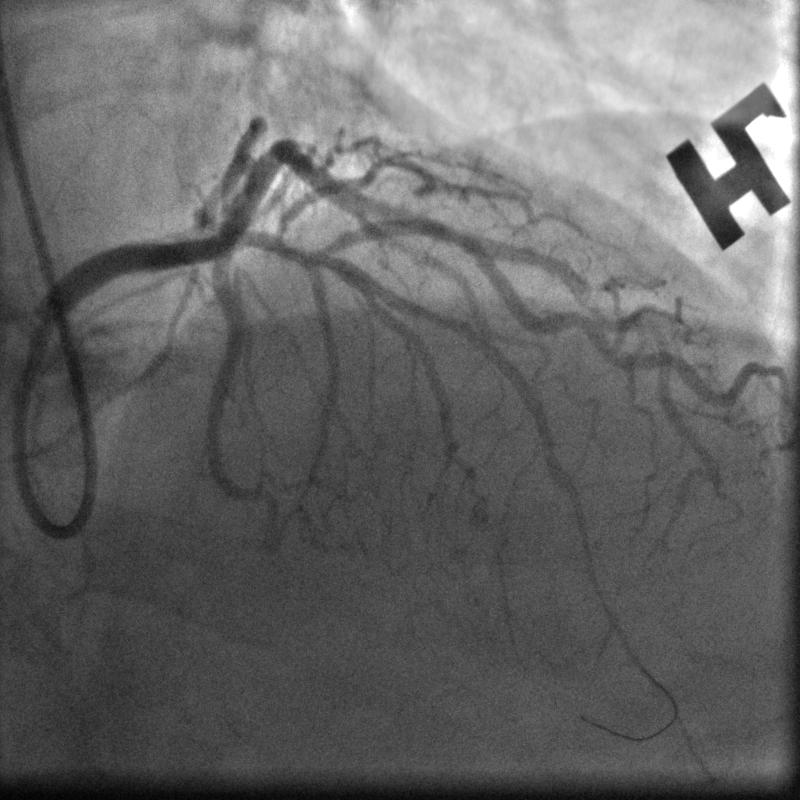Stenosis: (429, 211, 469, 248)
